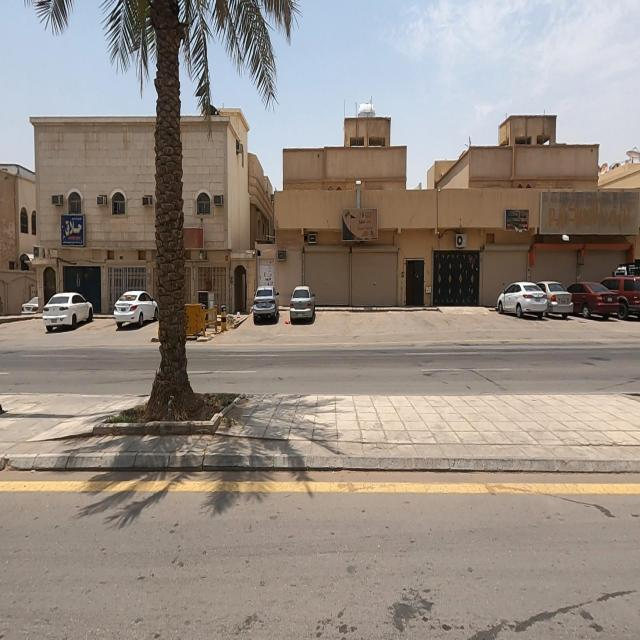debris: (494, 149, 640, 279), (152, 199, 230, 276), (484, 191, 544, 252)
